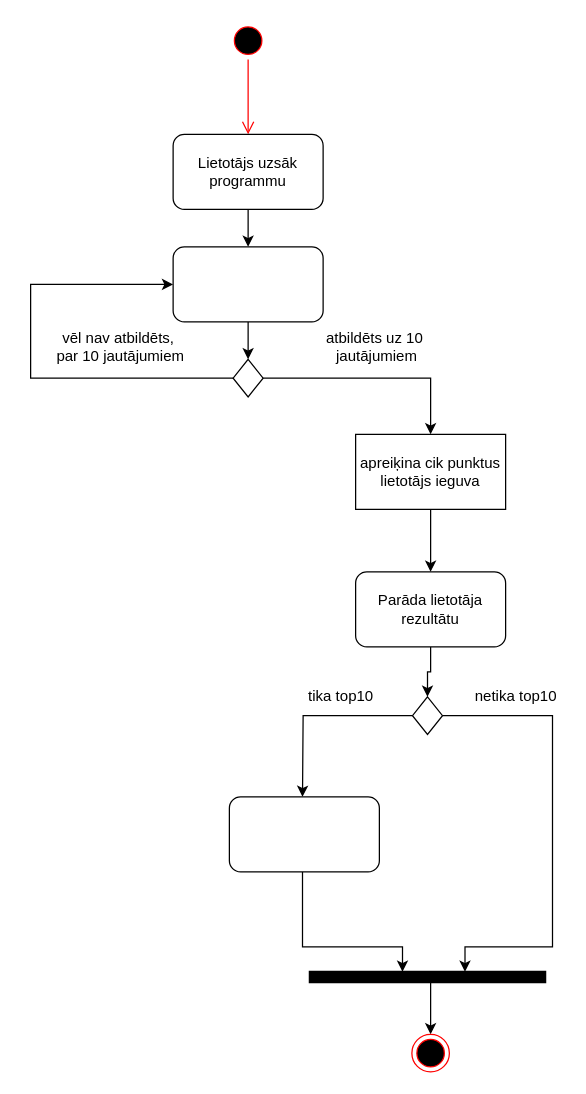
Image size: 586x1094. Some labels were removed from this diagram. Each missing label, with the centre of its shape:
Lietotājs atbild uz jautājumu: pixel 247 284
Tiek iekļauts top10 sarakstā: pixel 303 834
